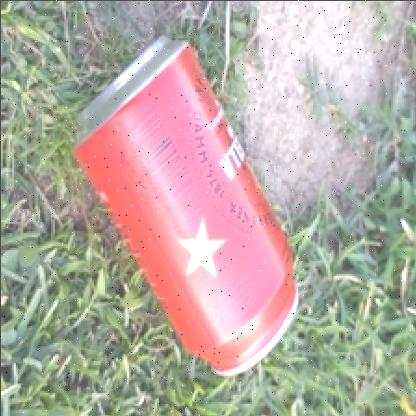Can: (75, 34, 299, 378)
